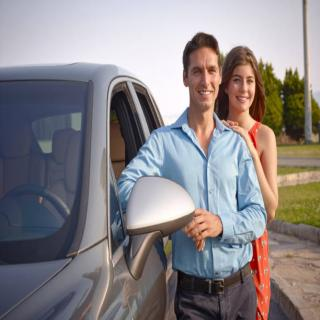Normal_vehicle: (2, 64, 173, 320)
